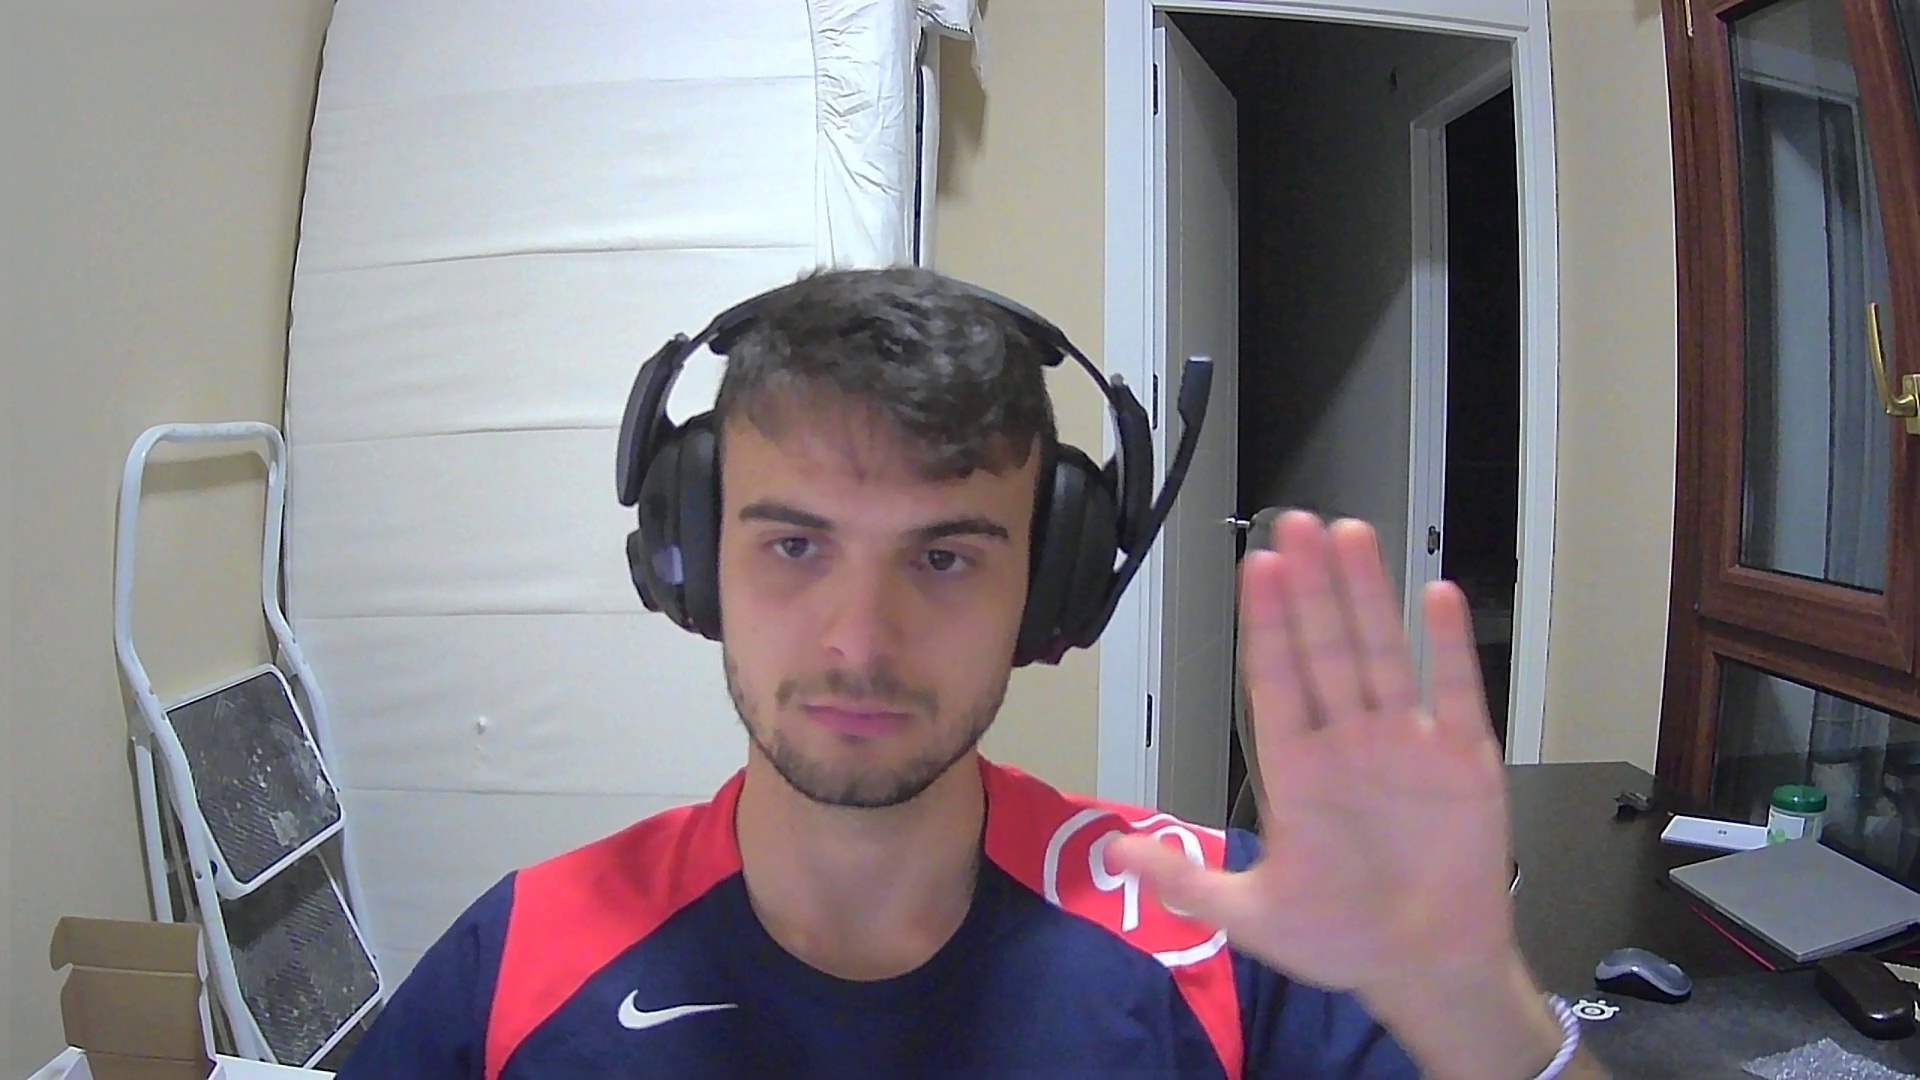Palm: (1112, 510, 1528, 1001)
